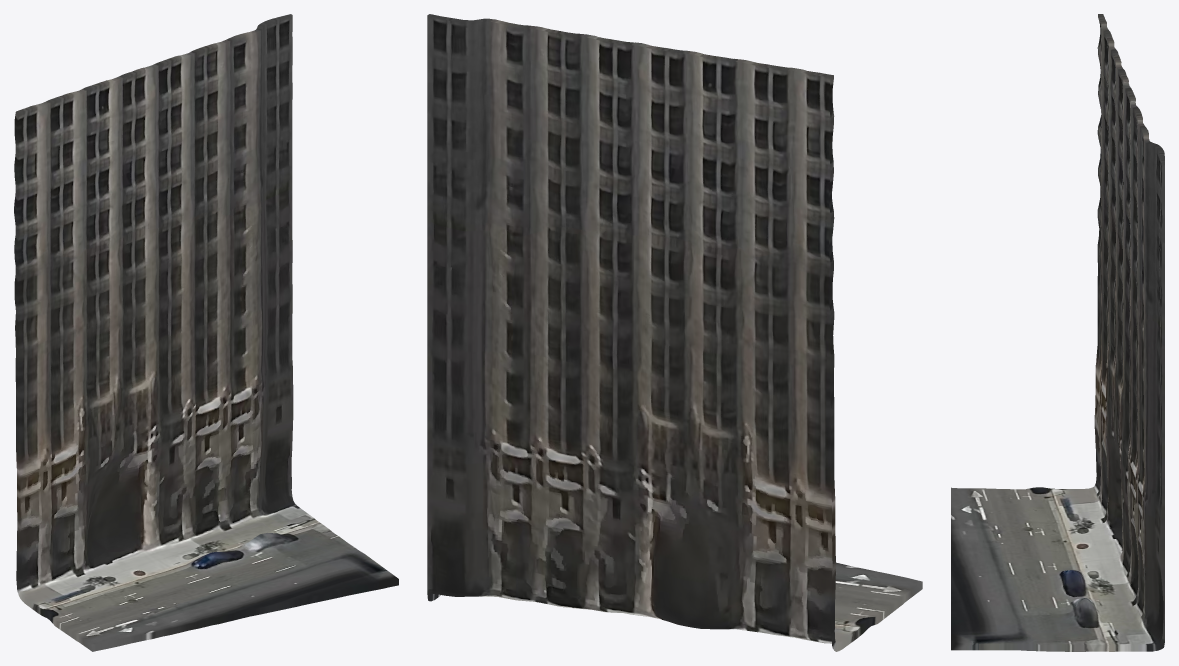
The model's file is z20-167764-405235-h0-yup-uvflip-v3-world.glb.
The picture shows the model from 3 angles, left to right: view 1: azimuth 30°, elevation 25°; view 2: azimuth 150°, elevation 25°; view 3: azimuth 270°, elevation 25°; orthographic projection. The views are drawn at different scales.
Size of the model in its own units: 30.16 by 46.48 by 18.4.
1 material, 1 textured.
